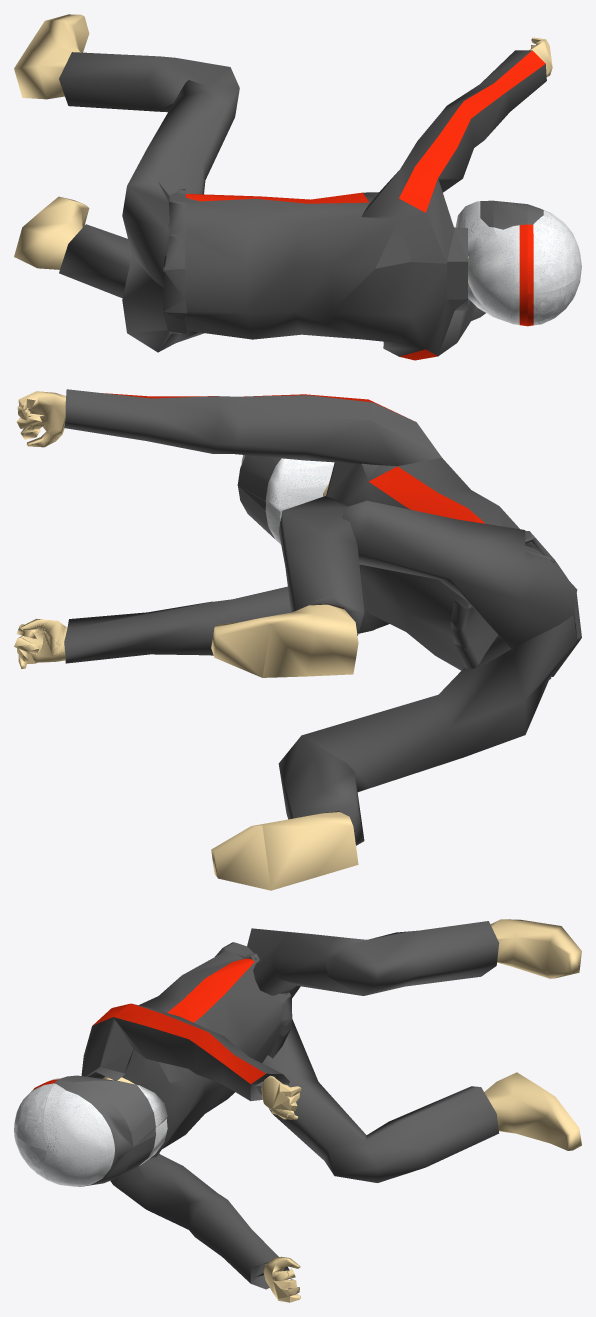
File: rider_position_2.dae
The picture shows the model from 3 angles, top to bottom: view 1: azimuth 30°, elevation 25°; view 2: azimuth 150°, elevation 25°; view 3: azimuth 270°, elevation 25°; orthographic projection. The views are drawn at different scales.
Visible parts, largest first — view 1: coords_ME_ID51_MA_material_5, coords_ME_ID13_MA_material, coords_ME_ID3_MA_material, coords_ME_ID137_MA_material_6, coords_ME_ID185_MA_material_4, coords_ME_ID237_MA_material_4, coords_ME_ID13_MA_material_0, coords_ME_ID81_MA_material_8, coords_ME_ID19_MA_material_1, coords_ME_ID27_MA_material_2, coords_ME_ID3_MA_material_0, coords_ME_ID59_MA_material_6 (+1 smaller); view 2: coords_ME_ID51_MA_material_5, coords_ME_ID185_MA_material_4, coords_ME_ID237_MA_material_4, coords_ME_ID13_MA_material, coords_ME_ID59_MA_material_6, coords_ME_ID199_MA_material_4, coords_ME_ID43_MA_material_4, coords_ME_ID35_MA_material_3, coords_ME_ID13_MA_material_0; view 3: coords_ME_ID51_MA_material_5, coords_ME_ID3_MA_material, coords_ME_ID237_MA_material_4, coords_ME_ID185_MA_material_4, coords_ME_ID137_MA_material_6, coords_ME_ID35_MA_material_3, coords_ME_ID3_MA_material_0, coords_ME_ID27_MA_material_2, coords_ME_ID59_MA_material_6, coords_ME_ID43_MA_material_4, coords_ME_ID199_MA_material_4, coords_ME_ID13_MA_material.
Part boxes in pixels (bbox=[...]): coords_ME_ID51_MA_material_5: bbox=[59, 50, 546, 356]; coords_ME_ID13_MA_material: bbox=[455, 201, 519, 324]; coords_ME_ID3_MA_material: bbox=[533, 210, 581, 325]; coords_ME_ID137_MA_material_6: bbox=[399, 50, 545, 212]; coords_ME_ID185_MA_material_4: bbox=[14, 14, 89, 99]; coords_ME_ID237_MA_material_4: bbox=[14, 196, 89, 269]; coords_ME_ID13_MA_material_0: bbox=[456, 201, 519, 324]; coords_ME_ID81_MA_material_8: bbox=[447, 227, 467, 310]; coords_ME_ID19_MA_material_1: bbox=[519, 224, 533, 326]; coords_ME_ID27_MA_material_2: bbox=[480, 200, 543, 229]; coords_ME_ID3_MA_material_0: bbox=[533, 210, 581, 324]; coords_ME_ID59_MA_material_6: bbox=[186, 192, 369, 203]; coords_ME_ID51_MA_material_5: bbox=[64, 389, 581, 845]; coords_ME_ID185_MA_material_4: bbox=[211, 604, 358, 677]; coords_ME_ID237_MA_material_4: bbox=[211, 812, 358, 890]; coords_ME_ID13_MA_material: bbox=[265, 458, 334, 544]; coords_ME_ID59_MA_material_6: bbox=[368, 466, 485, 523]; coords_ME_ID199_MA_material_4: bbox=[16, 391, 65, 447]; coords_ME_ID43_MA_material_4: bbox=[14, 618, 67, 668]; coords_ME_ID35_MA_material_3: bbox=[237, 455, 280, 538]; coords_ME_ID13_MA_material_0: bbox=[266, 459, 333, 541]; coords_ME_ID51_MA_material_5: bbox=[81, 921, 499, 1289]; coords_ME_ID3_MA_material: bbox=[14, 1083, 114, 1186]; coords_ME_ID237_MA_material_4: bbox=[484, 1072, 581, 1150]; coords_ME_ID185_MA_material_4: bbox=[490, 919, 581, 978]; coords_ME_ID137_MA_material_6: bbox=[92, 1003, 265, 1083]; coords_ME_ID35_MA_material_3: bbox=[74, 1080, 155, 1177]; coords_ME_ID3_MA_material_0: bbox=[14, 1084, 114, 1186]; coords_ME_ID27_MA_material_2: bbox=[54, 1075, 133, 1186]; coords_ME_ID59_MA_material_6: bbox=[167, 958, 254, 1022]; coords_ME_ID43_MA_material_4: bbox=[263, 1256, 300, 1302]; coords_ME_ID199_MA_material_4: bbox=[261, 1075, 301, 1119]; coords_ME_ID13_MA_material: bbox=[51, 1077, 167, 1165].
Size of the model in its own units: 11.01 by 6.09 by 13.24.
